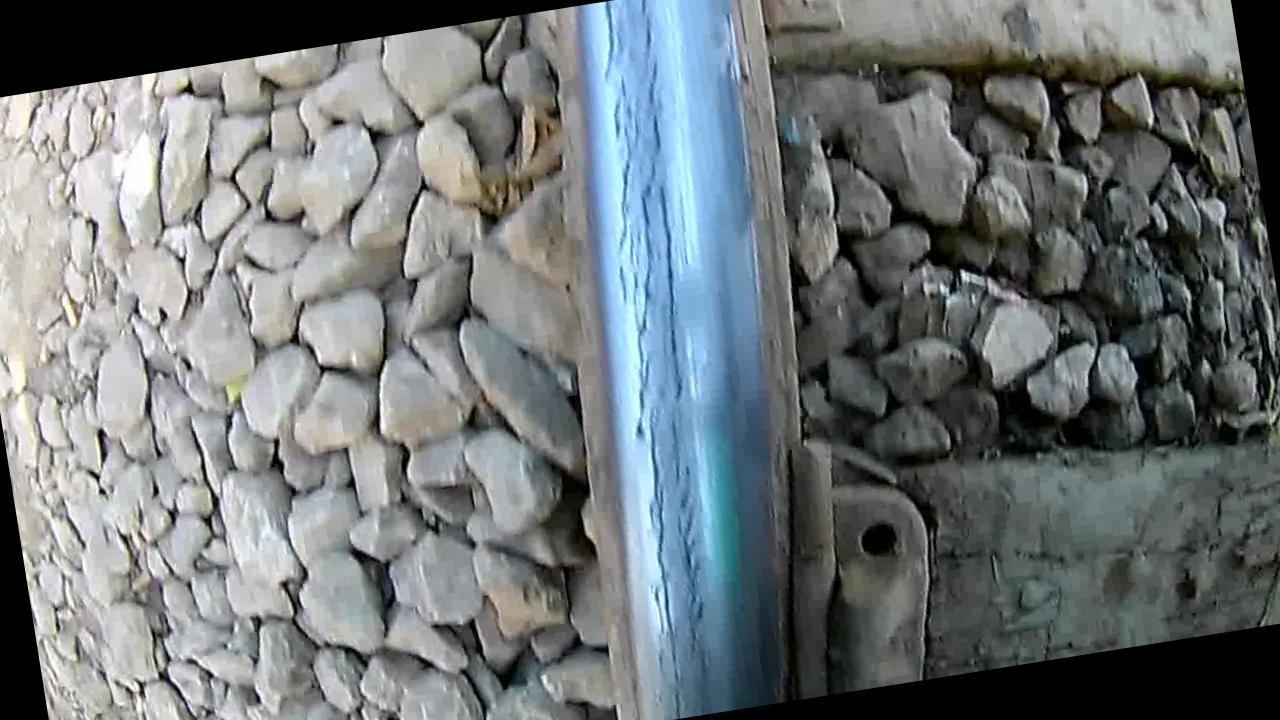normal_track: (554, 0, 783, 714)
